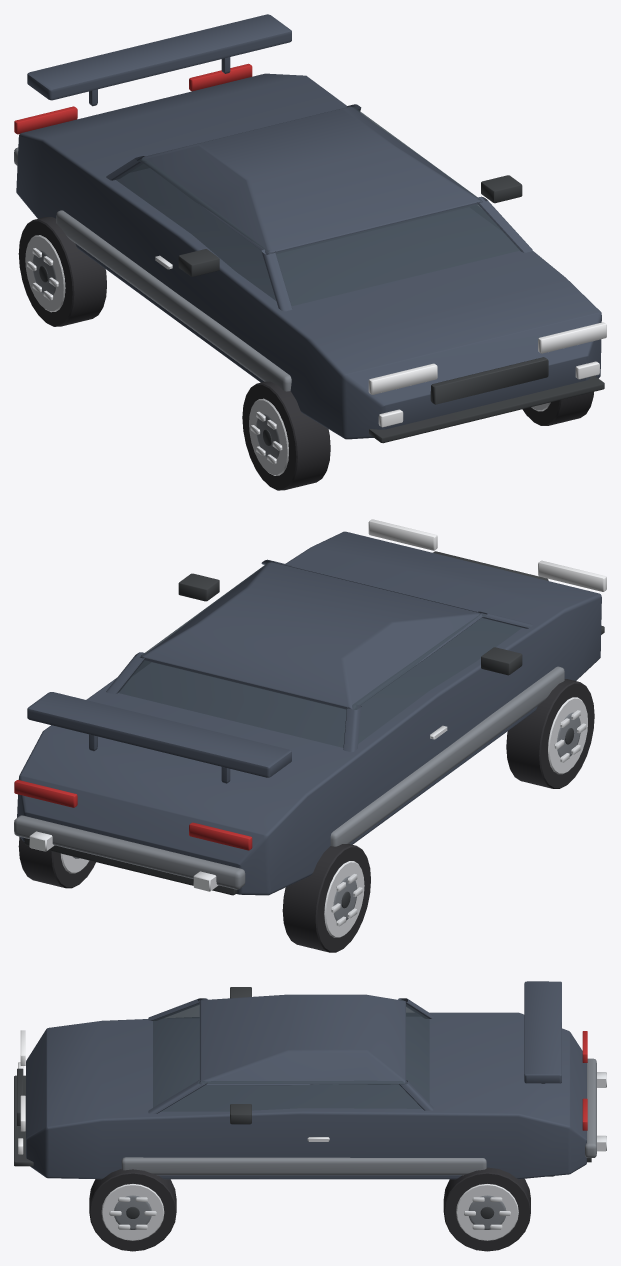
File: onyx-velocity.glb
3 renders of one model, top to bottom at view 1: azimuth 30°, elevation 25°; view 2: azimuth 150°, elevation 25°; view 3: azimuth 270°, elevation 25°, orthographic. The views are drawn at different scales.
Visible parts, largest first — view 1: paint, glass, tyre, trim, accent, rim, head, tail; view 2: paint, glass, accent, tyre, rim, trim, head, tail; view 3: paint, glass, accent, tyre, rim, trim, head, tail.
Part boxes in pixels (x1,y1,x2,y2): paint: (16, 14, 601, 439); glass: (116, 107, 520, 305); tyre: (18, 217, 593, 490); trim: (39, 175, 604, 445); accent: (14, 147, 291, 458); rim: (25, 235, 550, 475); head: (368, 322, 606, 427); tail: (14, 63, 252, 134); paint: (17, 531, 601, 895); glass: (118, 562, 521, 747); accent: (14, 666, 580, 920); tyre: (18, 679, 594, 952); rim: (29, 697, 587, 937); trim: (24, 551, 604, 908); head: (368, 519, 606, 591); tail: (14, 780, 252, 850); paint: (26, 981, 586, 1179); glass: (153, 1000, 429, 1111); accent: (114, 1058, 596, 1229); tyre: (89, 1167, 530, 1251); rim: (101, 1072, 606, 1240); trim: (14, 987, 591, 1218); head: (18, 1030, 25, 1154); tail: (582, 1031, 587, 1130).
Size of the model in its own units: 2.5 by 1.56 by 4.89.
